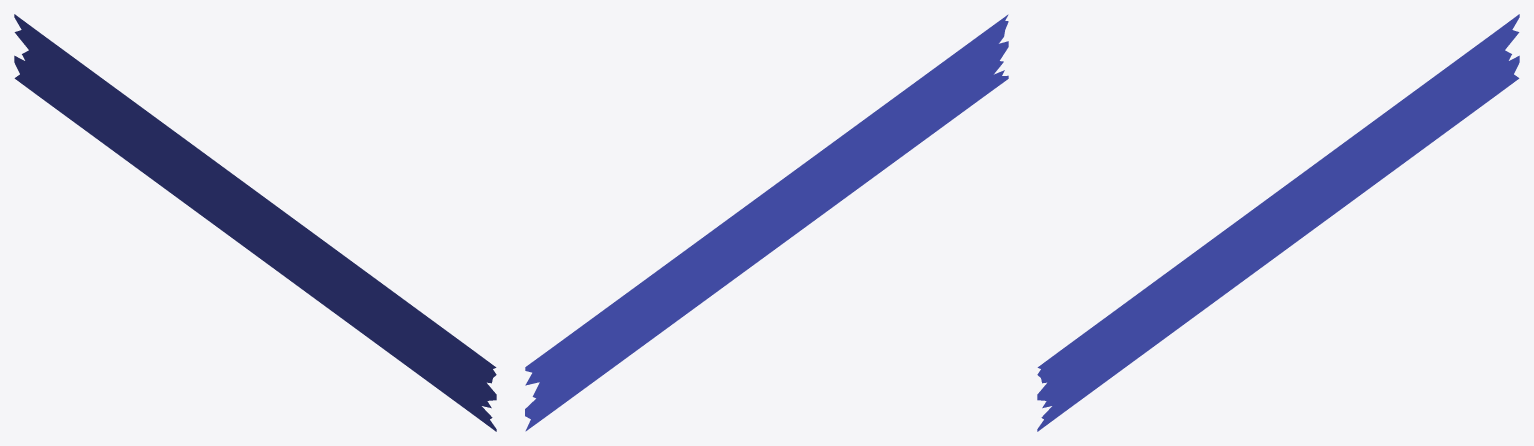
Rendered from TapeStrip.fbx.
The picture shows the model from 3 angles, left to right: view 1: azimuth 30°, elevation 25°; view 2: azimuth 150°, elevation 25°; view 3: azimuth 330°, elevation 25°; orthographic projection.
Visible parts, largest first — view 1: polySurface547; view 2: polySurface547; view 3: polySurface547.
Part boxes in pixels (x1,y1,x2,y2): polySurface547: (14, 14, 496, 431); polySurface547: (525, 14, 1008, 431); polySurface547: (1037, 14, 1519, 431).
Bounding box in the file's own units: 0 × 3.97 × 53.27.
